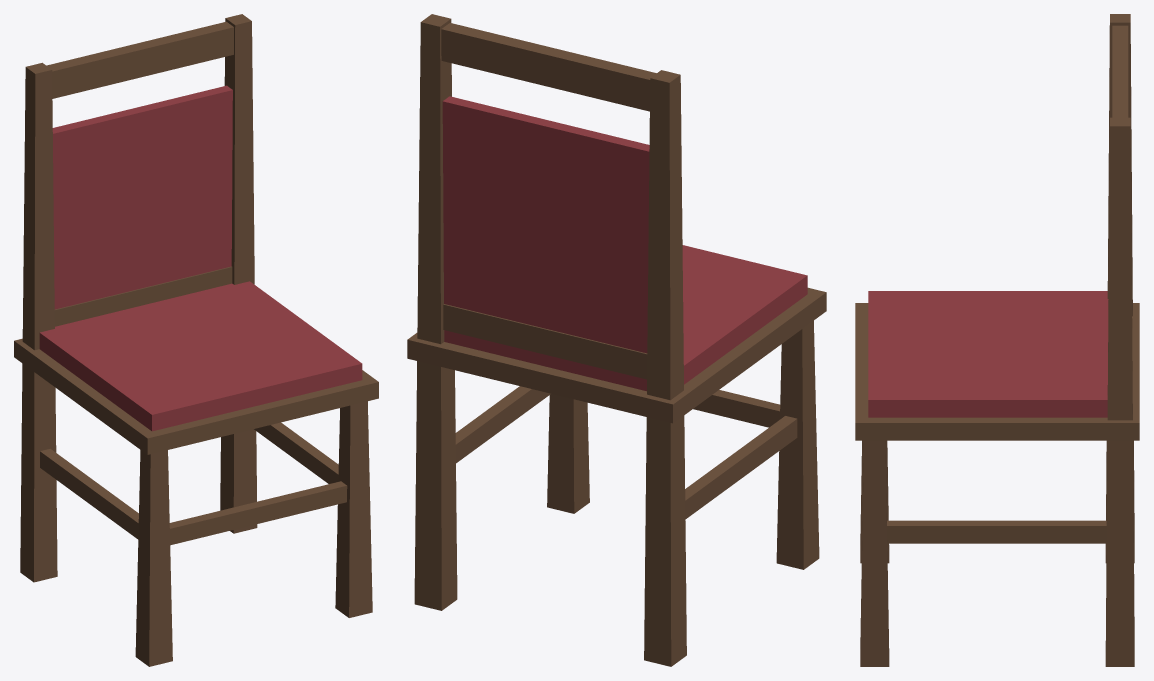
The model's file is chair.glb.
3 renders of one model, left to right at view 1: azimuth 30°, elevation 25°; view 2: azimuth 150°, elevation 25°; view 3: azimuth 270°, elevation 25°, orthographic. The views are drawn at different scales.
Visible parts, largest first — view 1: Chair; view 2: Chair; view 3: Chair.
Part boxes in pixels (x1,y1,x2,y2): Chair: (14,14,378,666); Chair: (407,14,826,666); Chair: (855,14,1139,666).
Bounding box in the file's own units: 0.44 × 0.92 × 0.44.
